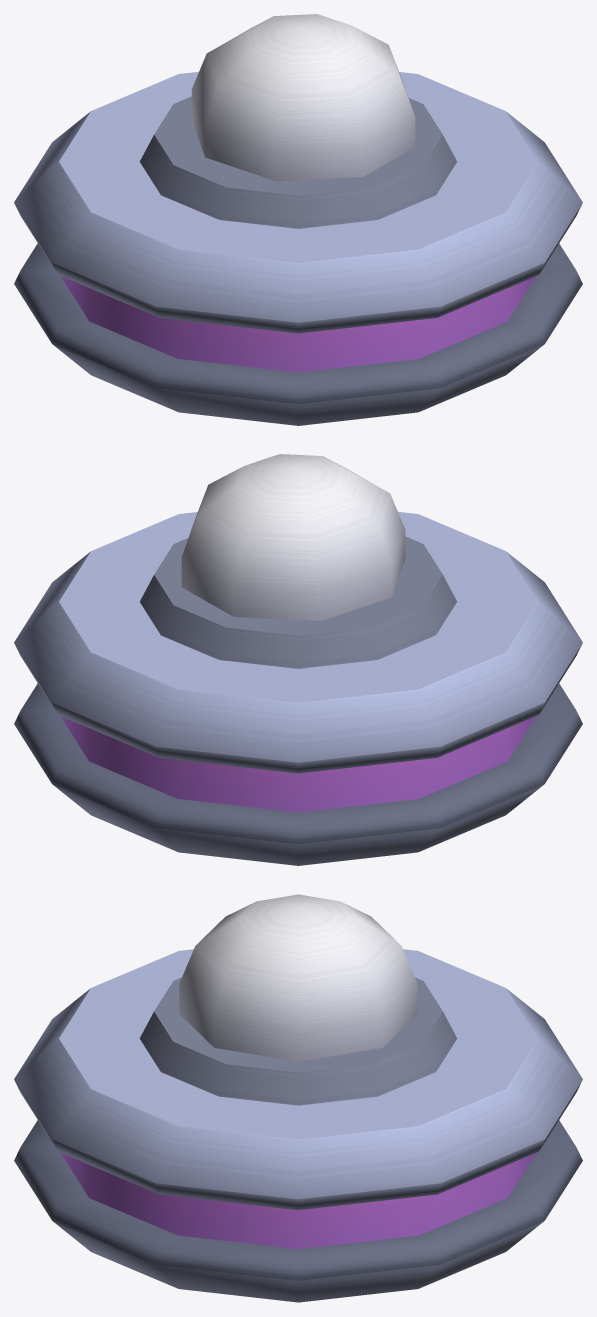
File: enemy-ufo-d.glb
3 renders of one model, top to bottom at view 1: azimuth 30°, elevation 25°; view 2: azimuth 150°, elevation 25°; view 3: azimuth 270°, elevation 25°, orthographic.
Parts seen in each view (by area): view 1: enemy-ufo-d; view 2: enemy-ufo-d; view 3: enemy-ufo-d.
Part boxes in pixels (x1=…): enemy-ufo-d: x1=14, y1=14, x2=582, y2=425; enemy-ufo-d: x1=14, y1=454, x2=582, y2=865; enemy-ufo-d: x1=14, y1=894, x2=582, y2=1302.
Size of the model in its own units: 2.85 by 1.63 by 2.85.
1 material, 1 textured.
